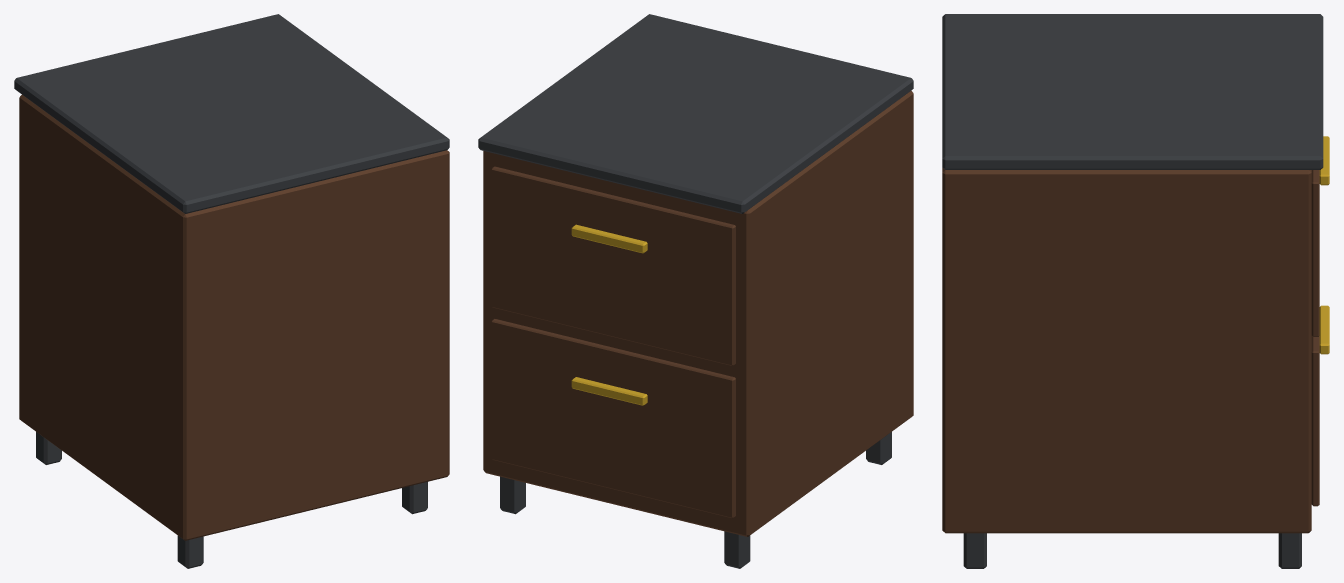
File: prop_nightstand.glb
3 views of the same model, side by side, from view 1: azimuth 30°, elevation 25°; view 2: azimuth 150°, elevation 25°; view 3: azimuth 270°, elevation 25° (orthographic). The views are drawn at different scales.
Visible parts, largest first — view 1: Nightstand; view 2: Nightstand; view 3: Nightstand.
Part boxes in pixels (x1,y1,x2,y2): Nightstand: (14, 14, 449, 568); Nightstand: (478, 14, 913, 568); Nightstand: (942, 14, 1329, 568).
Size of what is drawn, in the model's own units: 0.44 by 0.595 by 0.498.
